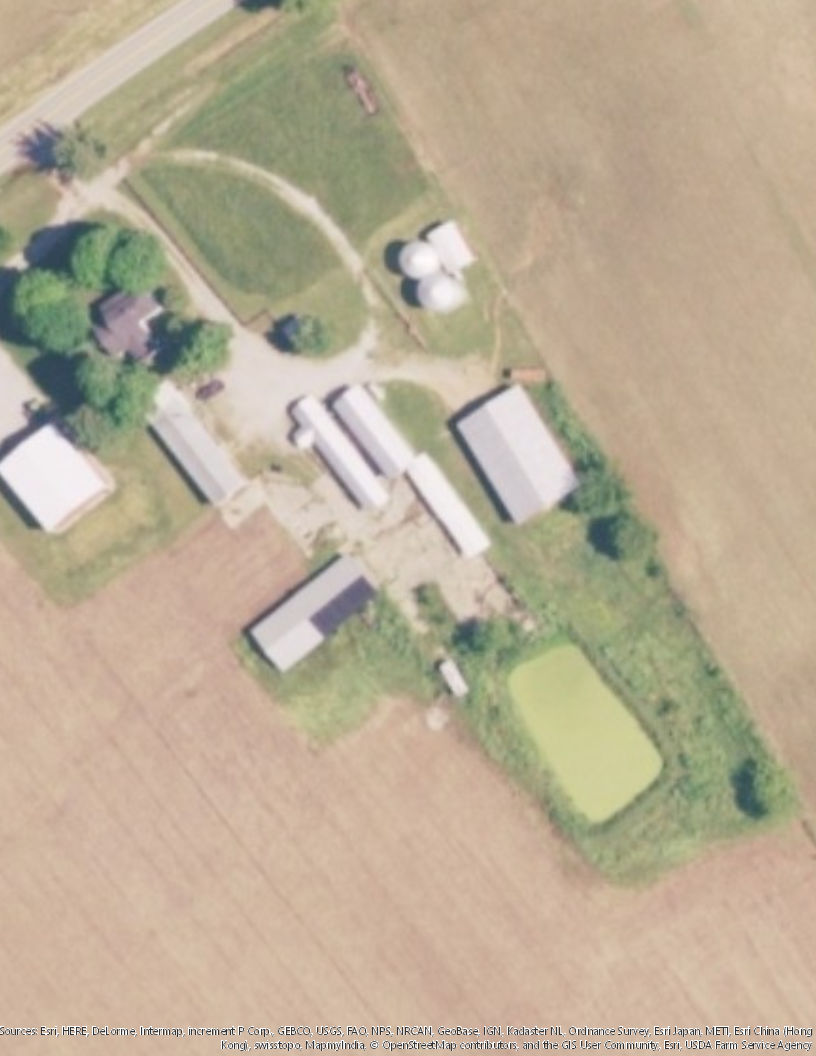cafo: (284, 377, 493, 565), (445, 368, 588, 531), (239, 553, 386, 676), (132, 398, 257, 508)
